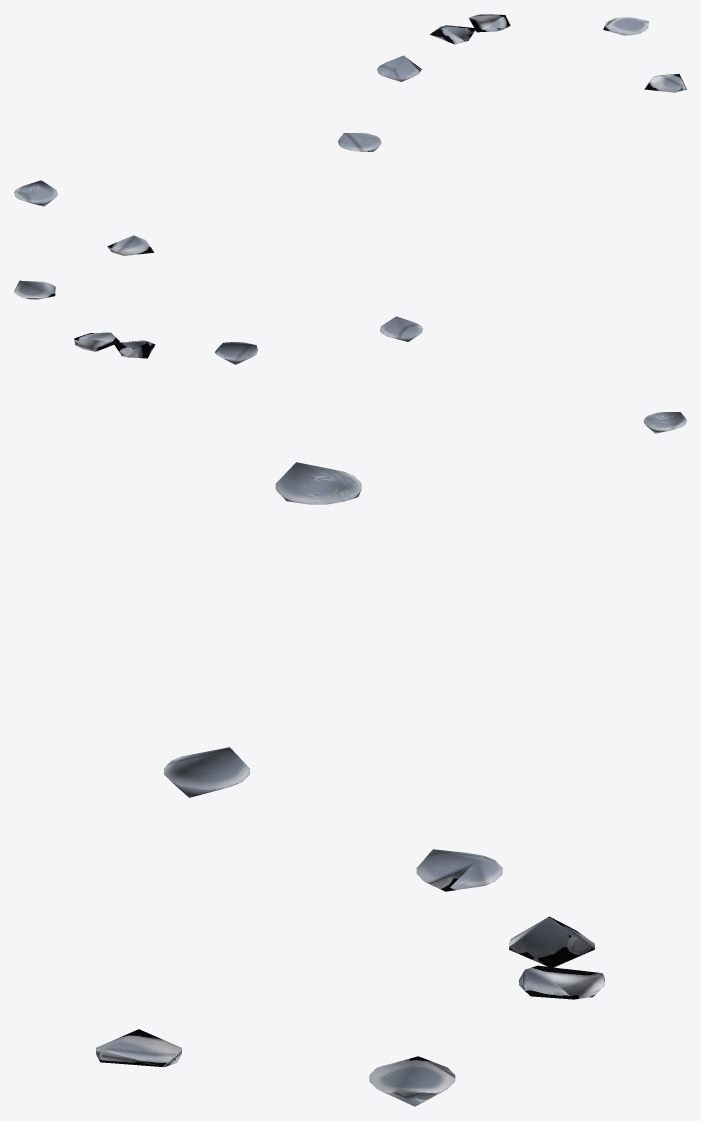
Rendered from EstucheGuitarra_acero.fbx.
3 renders of one model, top to bottom at view 1: azimuth 30°, elevation 25°; view 2: azimuth 150°, elevation 25°; view 3: azimuth 270°, elevation 25°, orthographic. The views are drawn at different scales.
Parts seen in each view (by area): view 1: Civ_EstucheGuitarra_acero; view 2: Civ_EstucheGuitarra_acero; view 3: Civ_EstucheGuitarra_acero.
Part boxes in pixels (x1,y1,x2,y2): Civ_EstucheGuitarra_acero: (14, 14, 686, 206); Civ_EstucheGuitarra_acero: (14, 235, 686, 433); Civ_EstucheGuitarra_acero: (96, 462, 604, 1106).
Bounding box in the file's own units: 2.08 × 0.0557 × 0.7127.
